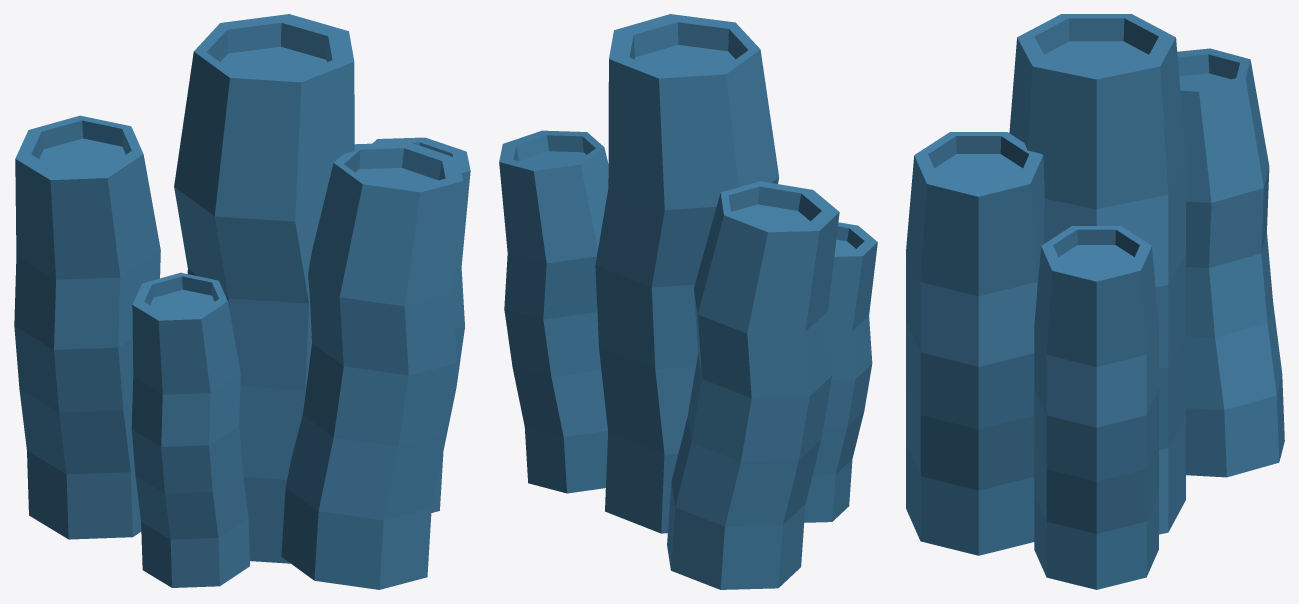
Rendered from coral reef_03.fbx.
The picture shows the model from 3 angles, left to right: view 1: azimuth 30°, elevation 25°; view 2: azimuth 150°, elevation 25°; view 3: azimuth 270°, elevation 25°; orthographic projection. The views are drawn at different scales.
Visible parts, largest first — view 1: Cylinder003, Cylinder001, Cylinder005, Cylinder004, Cylinder002; view 2: Cylinder001, Cylinder005, Cylinder002, Cylinder004; view 3: Cylinder003, Cylinder002, Cylinder001, Cylinder005.
Boxes of the visible parts, <box> form: Cylinder003: <box>281,142,463,589</box>; Cylinder001: <box>174,14,354,563</box>; Cylinder005: <box>14,115,160,539</box>; Cylinder004: <box>131,272,249,587</box>; Cylinder002: <box>372,137,470,512</box>; Cylinder001: <box>595,14,778,533</box>; Cylinder005: <box>667,181,839,589</box>; Cylinder002: <box>499,130,608,493</box>; Cylinder004: <box>804,222,877,522</box>; Cylinder003: <box>906,132,1044,555</box>; Cylinder002: <box>1034,226,1158,589</box>; Cylinder001: <box>1009,14,1185,534</box>; Cylinder005: <box>1177,48,1284,477</box>.
Bounding box in the file's own units: 167 × 195 × 142.
